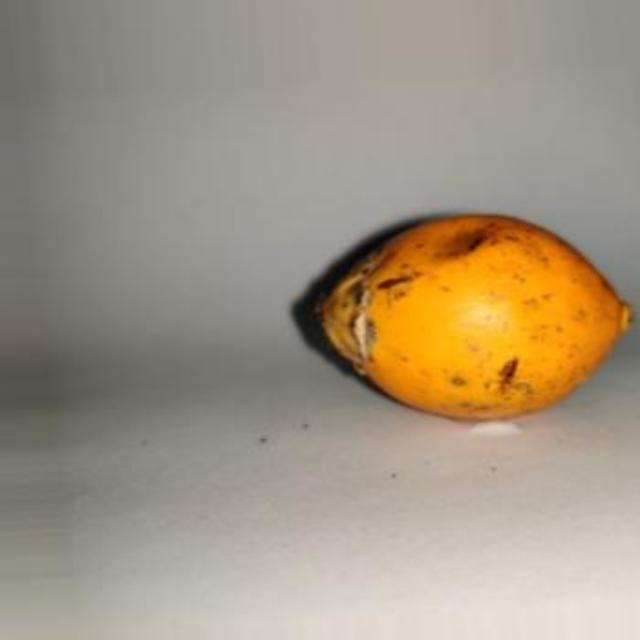good: (300, 214, 633, 424)
